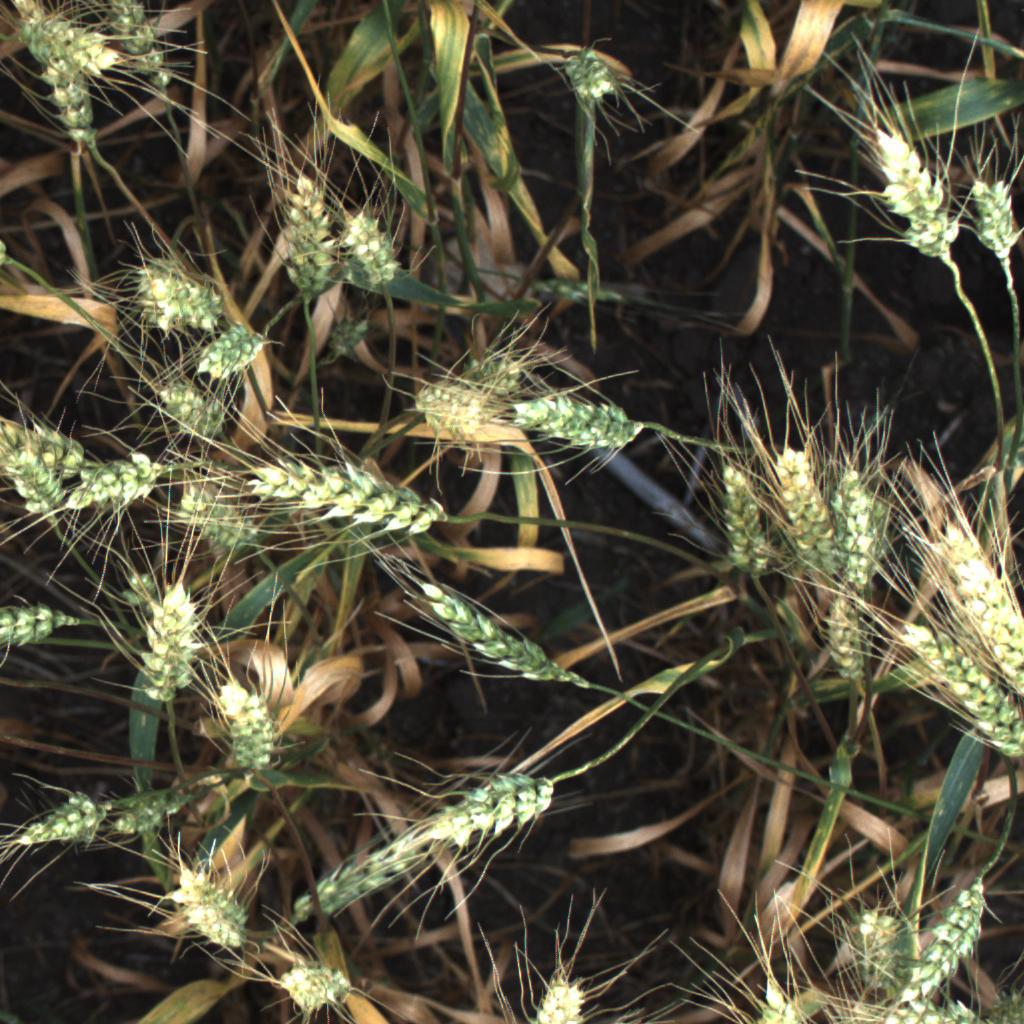0-0: (403, 567, 598, 698), (922, 491, 1024, 707), (232, 447, 450, 542), (894, 616, 1024, 761), (869, 119, 968, 274), (287, 819, 429, 927), (2, 1, 96, 162), (256, 154, 351, 311), (892, 867, 992, 1013), (766, 437, 846, 608), (503, 385, 652, 459), (418, 767, 554, 848), (161, 848, 264, 954), (403, 368, 531, 453), (131, 566, 204, 703), (59, 437, 177, 521), (710, 447, 776, 588), (124, 254, 233, 338), (0, 781, 110, 856), (336, 195, 416, 296), (211, 673, 278, 790), (105, 1, 187, 92), (837, 456, 891, 591), (150, 378, 251, 450), (179, 485, 270, 564), (15, 16, 136, 75), (844, 889, 915, 987), (545, 40, 635, 113), (186, 317, 274, 391), (0, 441, 68, 535), (969, 151, 1023, 269), (513, 963, 616, 1024), (109, 785, 202, 850), (453, 338, 546, 396), (824, 585, 873, 682), (842, 995, 1005, 1024), (18, 418, 92, 481), (738, 970, 823, 1024), (272, 966, 354, 1020), (0, 594, 67, 652)
